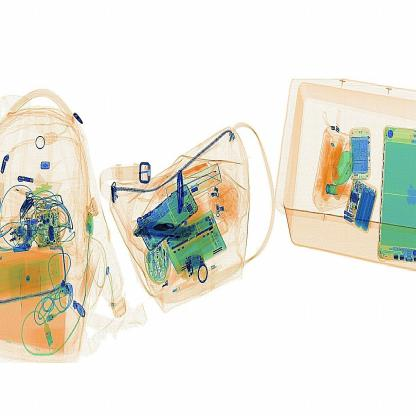knife: (170, 161, 194, 222)
